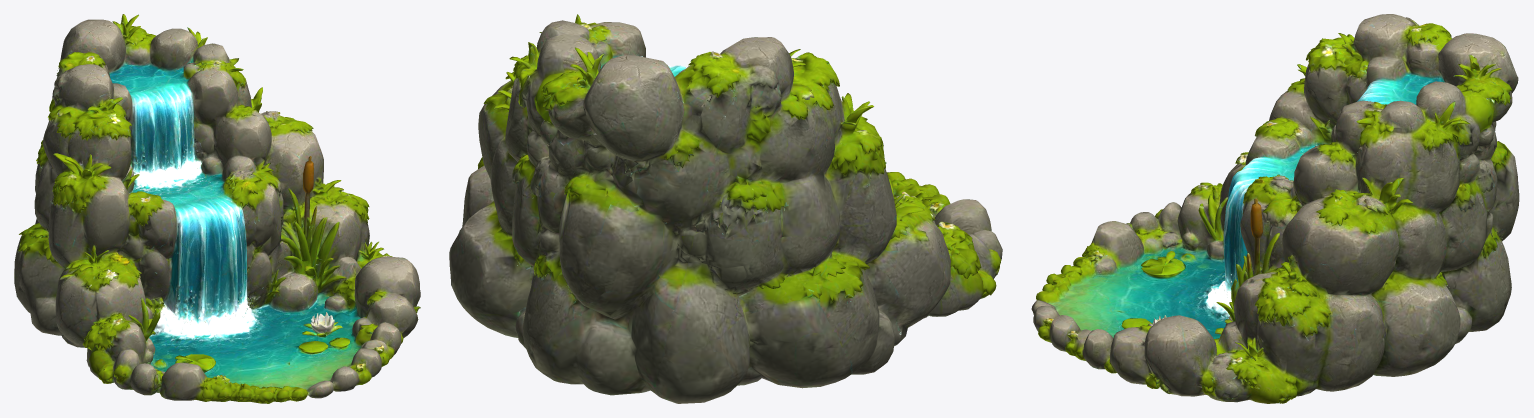
Rendered from Waterfall + rock pool.glb.
The picture shows the model from 3 angles, left to right: view 1: azimuth 30°, elevation 25°; view 2: azimuth 150°, elevation 25°; view 3: azimuth 270°, elevation 25°; orthographic projection. The views are drawn at different scales.
Bounding box in the file's own units: 1.64 × 1.12 × 1.9.
1 material, 1 textured.
